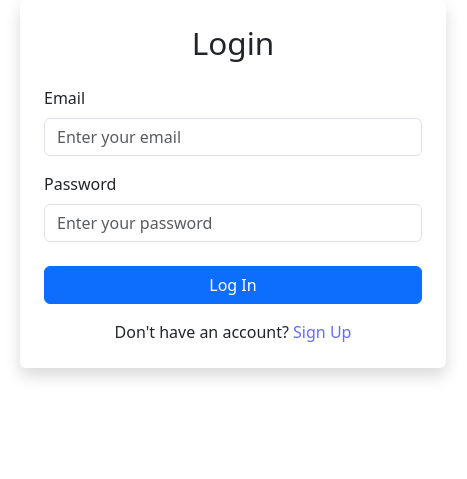
Test: Login Component › displays error message on login failure
Type "test@example.com" into the field labelled "Email" at (233, 137), box x1=44 y1=118 x2=422 y2=156
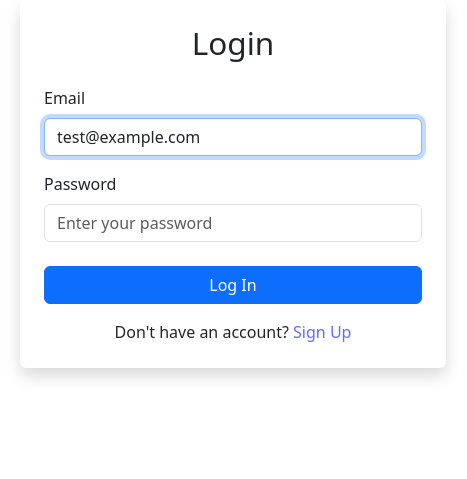
Type "wrongpass" into the password field labelled "Password" at (233, 223), box x1=44 y1=204 x2=422 y2=242
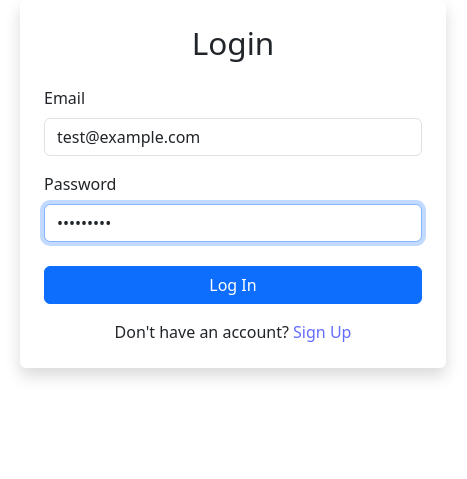
Click the button "Log In" at (233, 285), box x1=44 y1=266 x2=422 y2=304
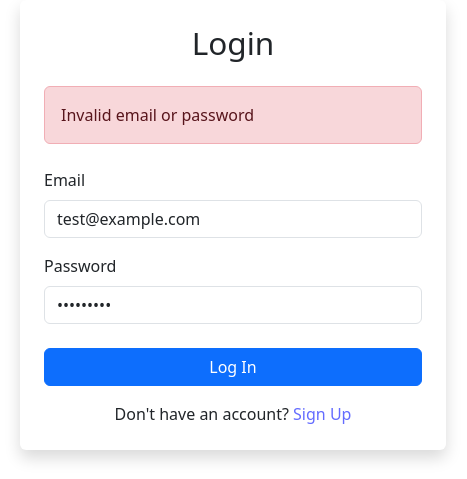
Check: the text "Invalid email or password" is shown, box x1=44 y1=86 x2=422 y2=144
